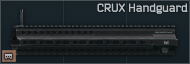HK 416A5 Strike Industries CRUX 15 inch M-LOK handguard: (0, 0, 190, 64)
